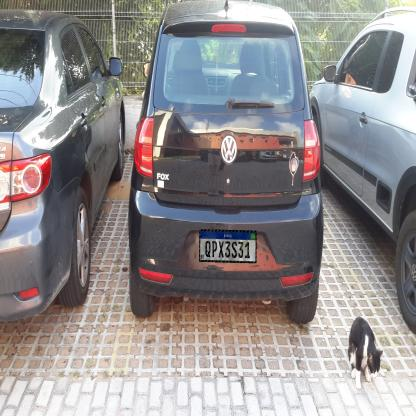PlacaM: (199, 230, 257, 263)
